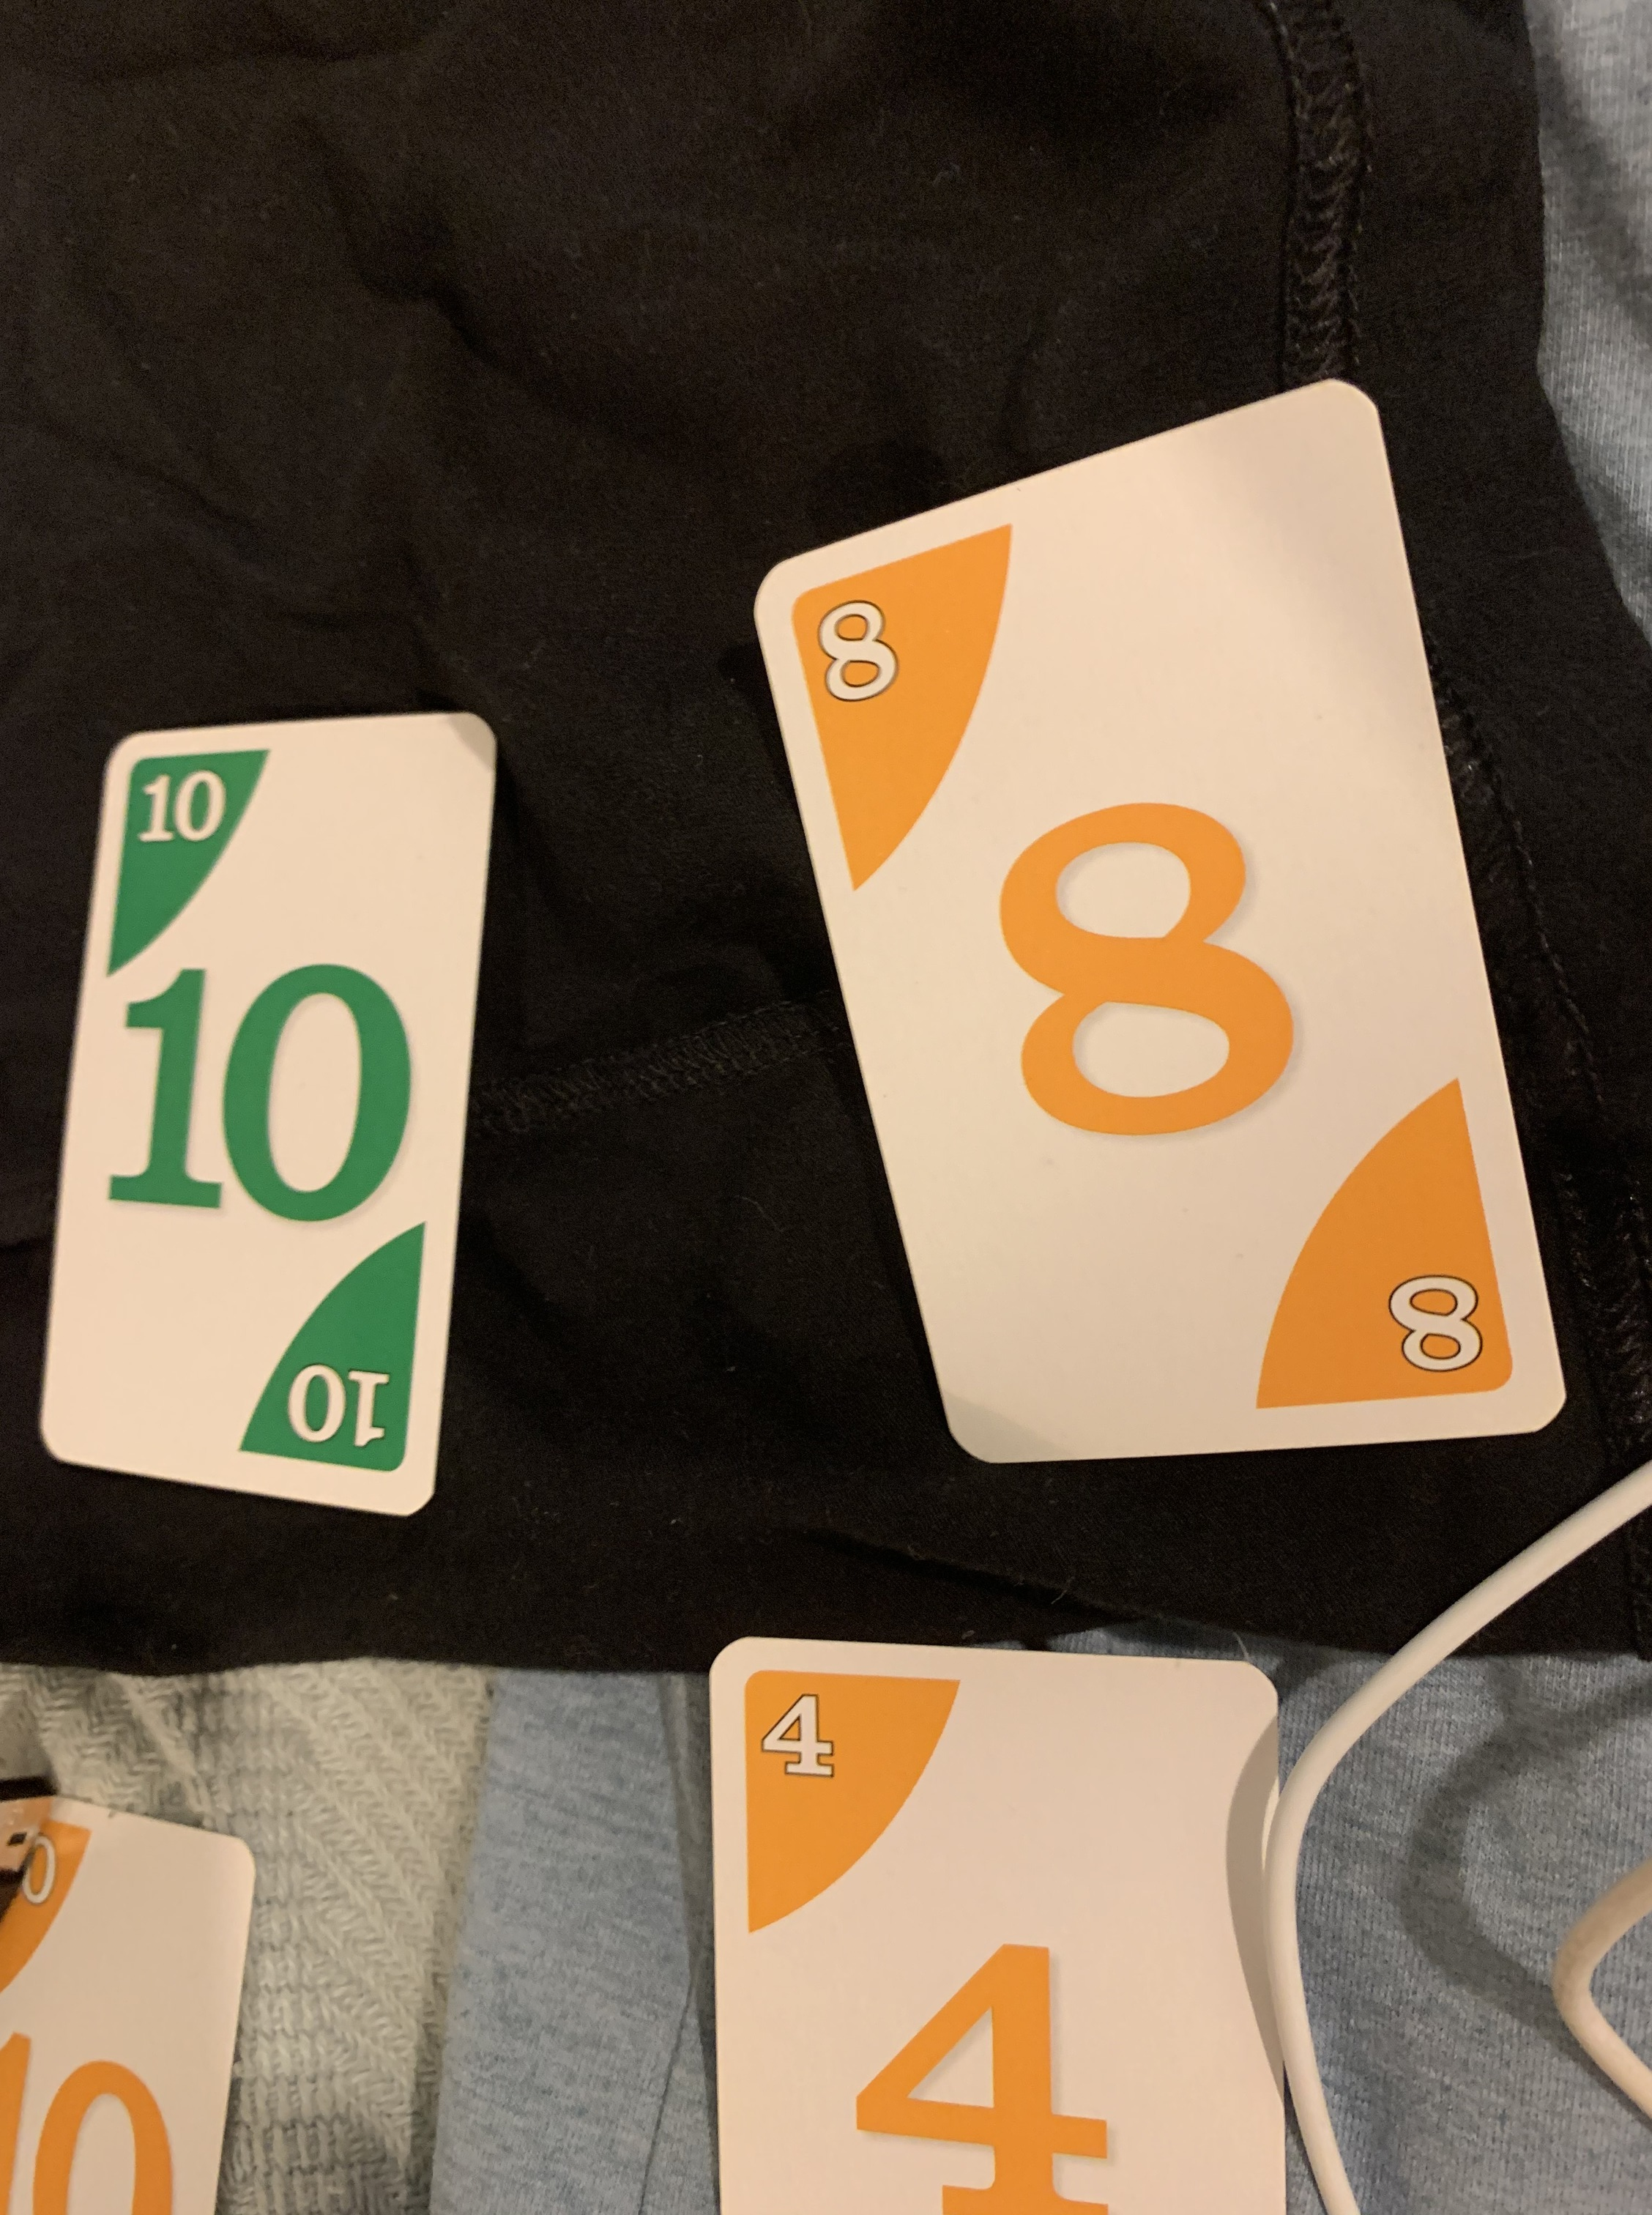eight: (718, 354, 1586, 1491)
four: (687, 1618, 1312, 2215)
ten: (36, 687, 522, 1529)
